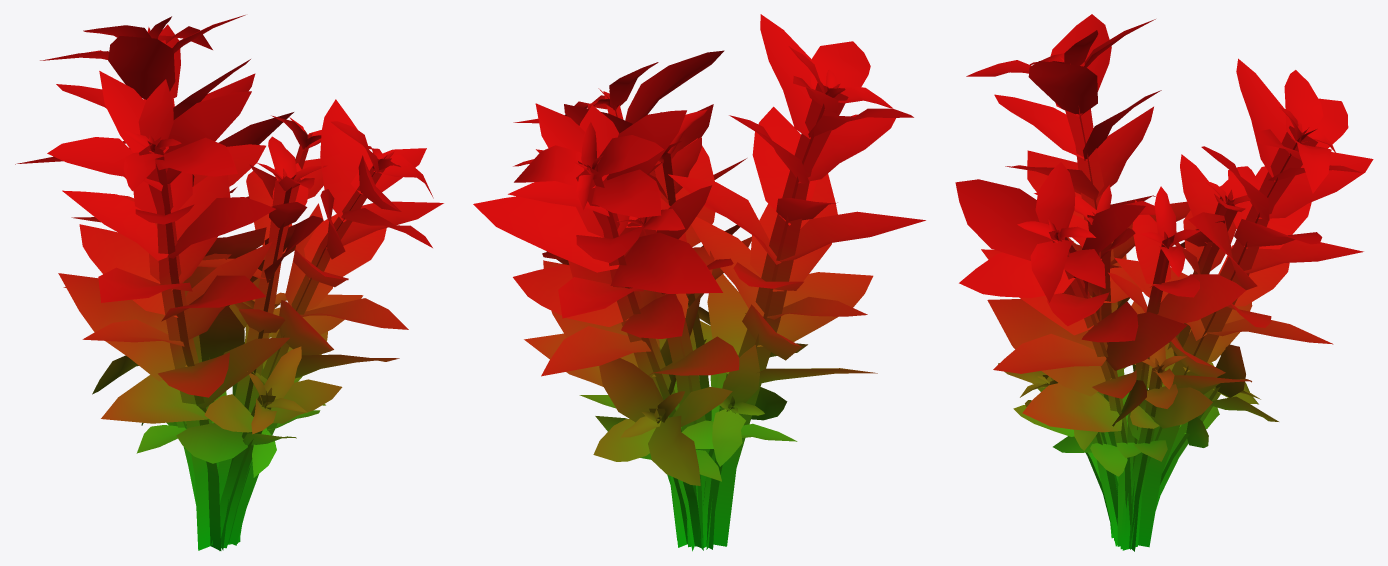
File: Var8_LOD3.fbx
3 renders of one model, left to right at view 1: azimuth 30°, elevation 25°; view 2: azimuth 150°, elevation 25°; view 3: azimuth 270°, elevation 25°, orthographic. The views are drawn at different scales.
Visible parts, largest first — view 1: _rx4b_Var8_LOD3; view 2: _rx4b_Var8_LOD3; view 3: _rx4b_Var8_LOD3.
Part boxes in pixels (x1=…): _rx4b_Var8_LOD3: x1=15, y1=15, x2=443, y2=550; _rx4b_Var8_LOD3: x1=473, y1=14, x2=925, y2=551; _rx4b_Var8_LOD3: x1=955, y1=14, x2=1373, y2=551.
Bounding box in the file's own units: 23.53 × 28.82 × 22.68.
